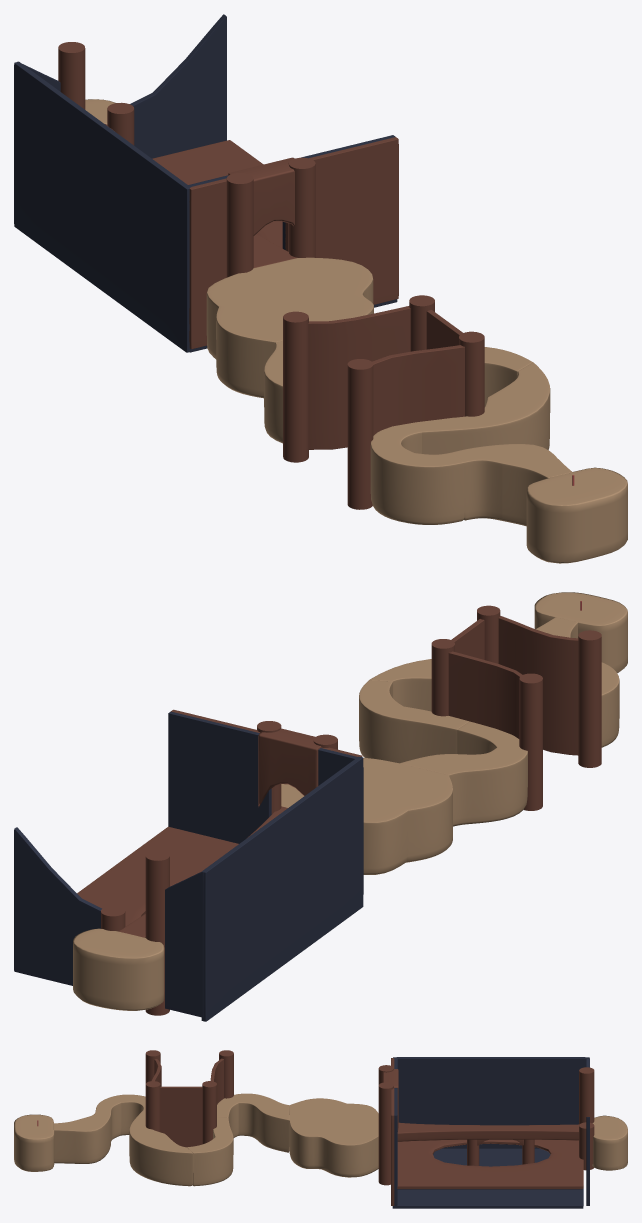
File: Level_colour.fbx
3 views of the same model, one above another, from view 1: azimuth 30°, elevation 25°; view 2: azimuth 150°, elevation 25°; view 3: azimuth 270°, elevation 25° (orthographic). The views are drawn at different scales.
Parts seen in each view (by area): view 1: level_1:Wall_1, level_1:Wall_3, level_1:Path_curve5, level_1:Initial_platform, level_1:Wall_2, level_1:Hose_2, level_1:Path_curve1, level_1:Hose_3, level_1:Path_curve2, level_1:Path_curve, Column_hose_4, Column_hose_3 (+12 smaller); view 2: level_1:Wall_1, level_1:Wall_2, Wall_3, level_1:Path_curve5, level_1:Path_curve4, level_1:Initial_platform1, level_1:Hose_3, level_1:Path_curve3, level_1:Floor_hole, level_1:Hose_2, level_1:Initial_platform, Arc_temple_2 (+9 smaller); view 3: level_1:Wall_1, level_1:Floor_hole, level_1:Path_curve5, level_1:Floor_final, level_1:Path_curve2, level_1:Path_curve4, level_1:Path_curve6, level_1:Path_curve, level_1:Hose_1, level_1:Initial_platform, level_1:Path_curve3, level_1:Initial_platform1 (+15 smaller).
Part boxes in pixels (x1,y1,x2,y2): level_1:Wall_1: [14, 61, 190, 352]; level_1:Wall_3: [189, 137, 398, 348]; level_1:Path_curve5: [206, 257, 373, 398]; level_1:Initial_platform: [526, 467, 627, 563]; level_1:Wall_2: [17, 14, 226, 158]; level_1:Hose_2: [308, 306, 410, 449]; level_1:Path_curve1: [370, 423, 464, 524]; level_1:Hose_3: [372, 345, 464, 435]; level_1:Path_curve2: [412, 362, 550, 454]; level_1:Path_curve: [452, 444, 572, 526]; Column_hose_4: [283, 311, 308, 462]; Column_hose_3: [347, 359, 373, 509]; level_1:Wall_1: [201, 756, 363, 1021]; level_1:Wall_2: [14, 827, 203, 1017]; Wall_3: [168, 711, 357, 843]; level_1:Path_curve5: [281, 758, 452, 874]; level_1:Path_curve4: [400, 721, 527, 826]; level_1:Initial_platform1: [73, 928, 164, 1010]; level_1:Hose_3: [498, 616, 578, 755]; level_1:Path_curve3: [359, 680, 468, 763]; level_1:Floor_hole: [77, 826, 238, 926]; level_1:Hose_2: [448, 651, 522, 738]; level_1:Initial_platform: [534, 592, 627, 673]; Arc_temple_2: [258, 728, 321, 807]; level_1:Wall_1: [393, 1057, 589, 1148]; level_1:Floor_hole: [397, 1139, 583, 1189]; level_1:Path_curve5: [289, 1098, 378, 1177]; level_1:Floor_final: [392, 1148, 583, 1208]; level_1:Path_curve2: [129, 1110, 193, 1186]; level_1:Path_curve4: [217, 1093, 289, 1152]; level_1:Path_curve6: [397, 1122, 579, 1141]; level_1:Path_curve: [53, 1110, 111, 1163]; level_1:Hose_1: [160, 1086, 202, 1147]; level_1:Initial_platform: [14, 1114, 54, 1171]; level_1:Path_curve3: [187, 1117, 233, 1186]; level_1:Initial_platform1: [592, 1115, 627, 1170].
Size of the model in its own units: 2186 by 1679 by 7886.
